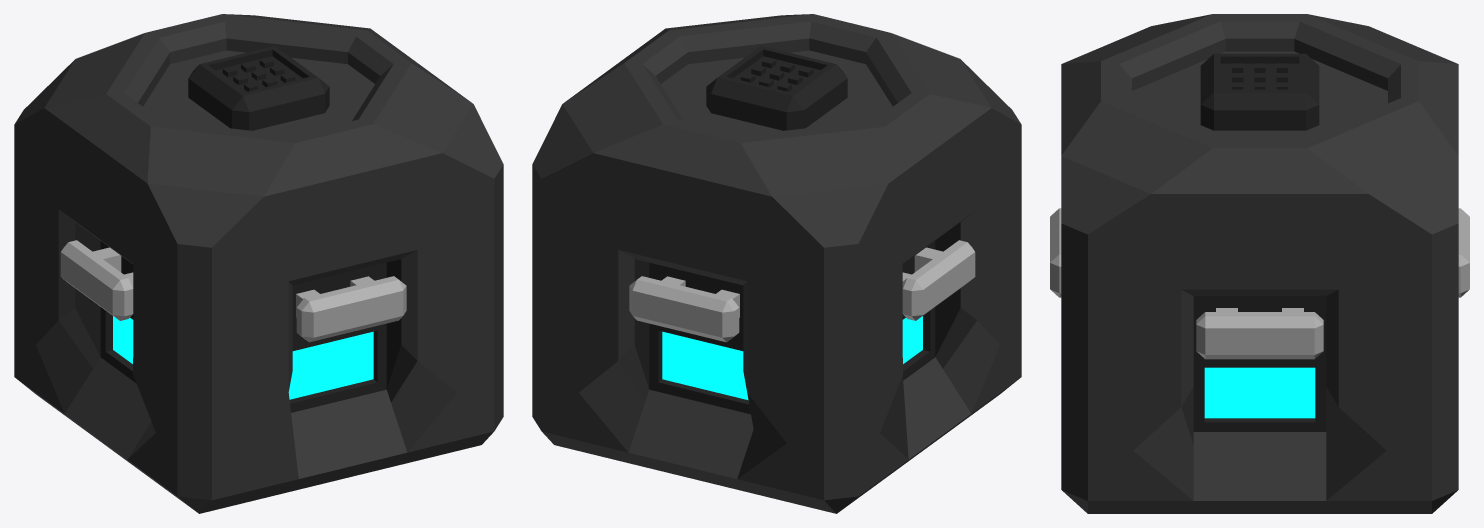
File: Crate3.fbx
3 renders of one model, left to right at view 1: azimuth 30°, elevation 25°; view 2: azimuth 150°, elevation 25°; view 3: azimuth 270°, elevation 25°, orthographic. The views are drawn at different scales.
Parts seen in each view (by area): view 1: Cube.042; view 2: Cube.042; view 3: Cube.042.
Boxes of the visible parts, x1=… form: Cube.042: x1=14, y1=14, x2=503, y2=513; Cube.042: x1=532, y1=14, x2=1021, y2=513; Cube.042: x1=1050, y1=14, x2=1469, y2=513.
Bounding box in the file's own units: 211 × 204 × 211.
